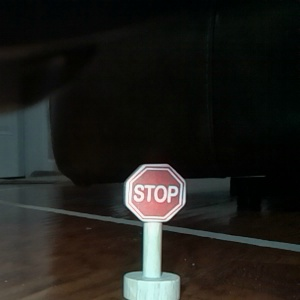stop sign: (119, 160, 189, 300)
